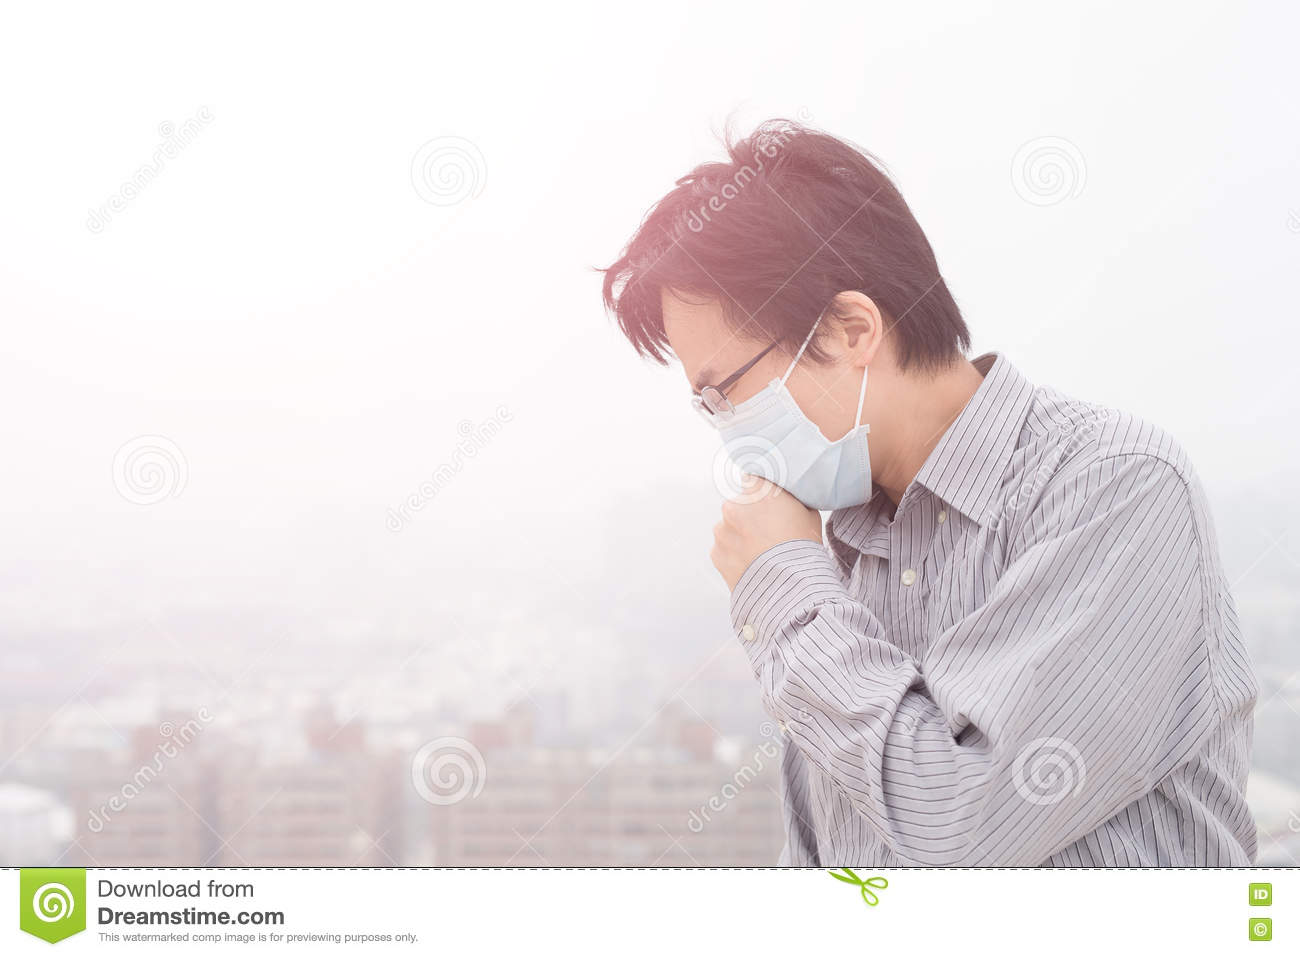mask: (712, 384, 874, 507)
